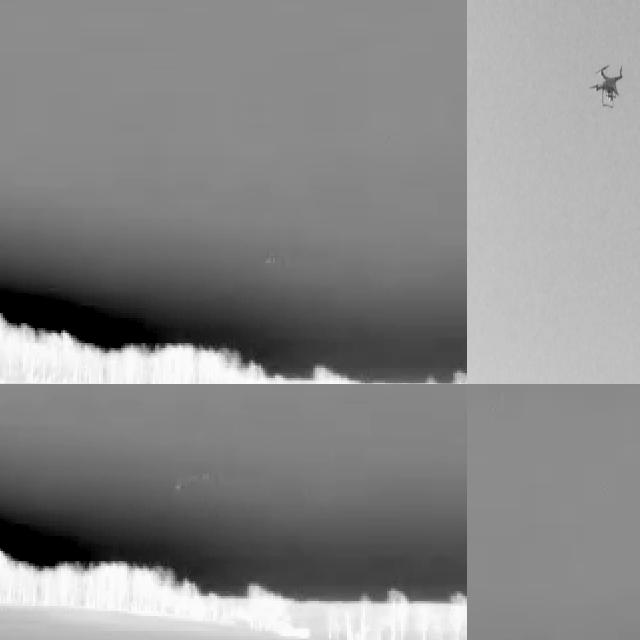0: (257, 249, 283, 282), (165, 475, 193, 505)
drone: (588, 61, 627, 110)
